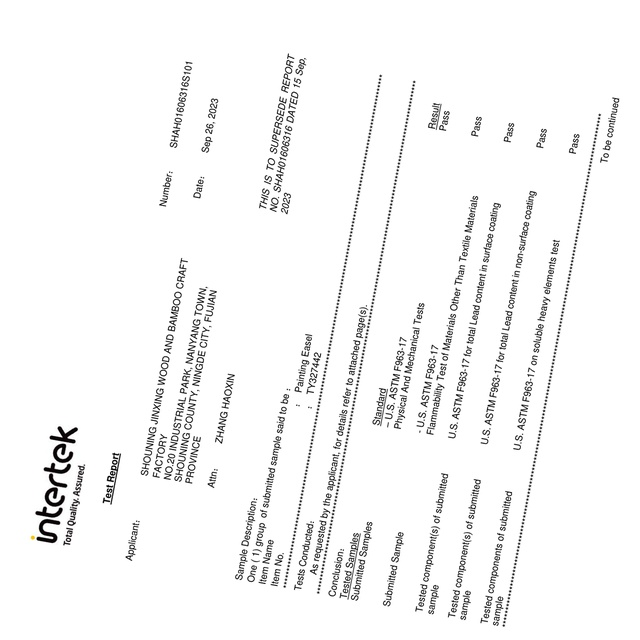intertek: (25, 420, 80, 552)
